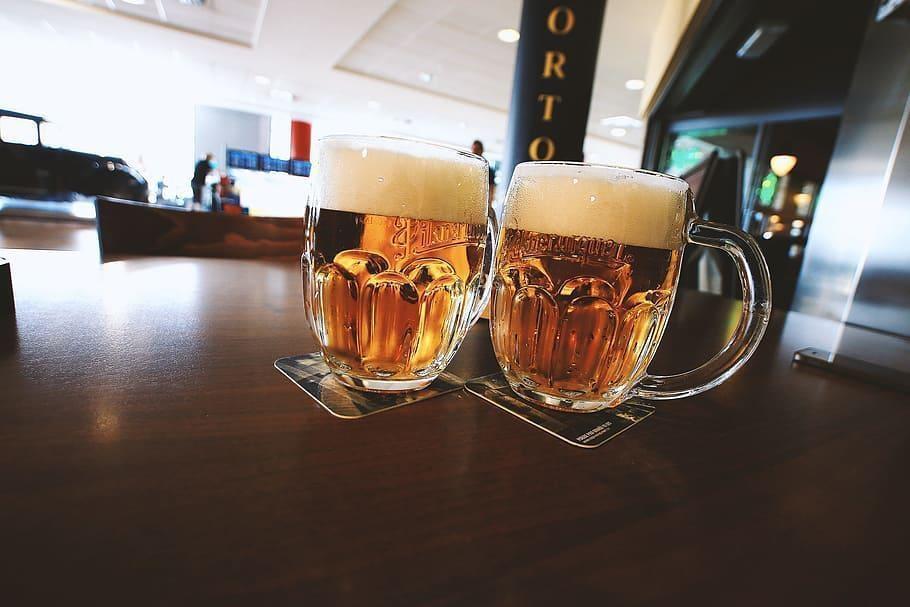glass-mug: (487, 158, 775, 412), (300, 130, 498, 395)
